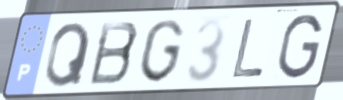3: (185, 15, 229, 85)
B: (87, 19, 142, 88)
G: (275, 12, 325, 81), (137, 17, 187, 85)
L: (230, 17, 267, 80)
Q: (43, 20, 93, 90)
